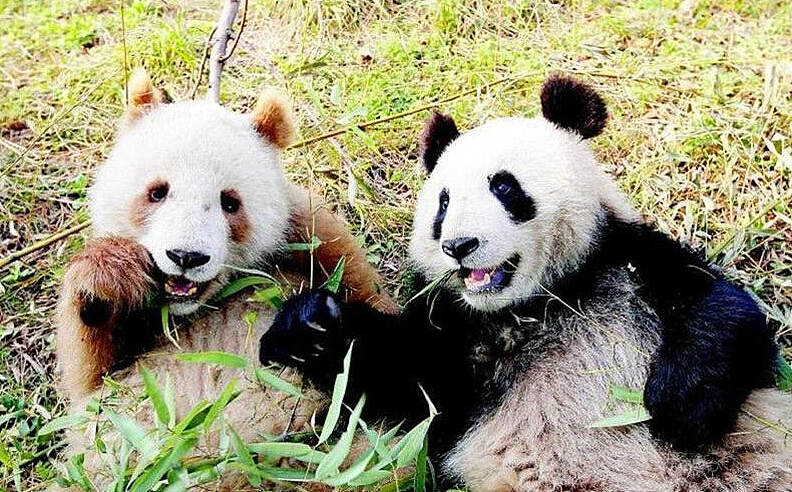panda: (280, 76, 772, 468), (63, 58, 388, 460)
